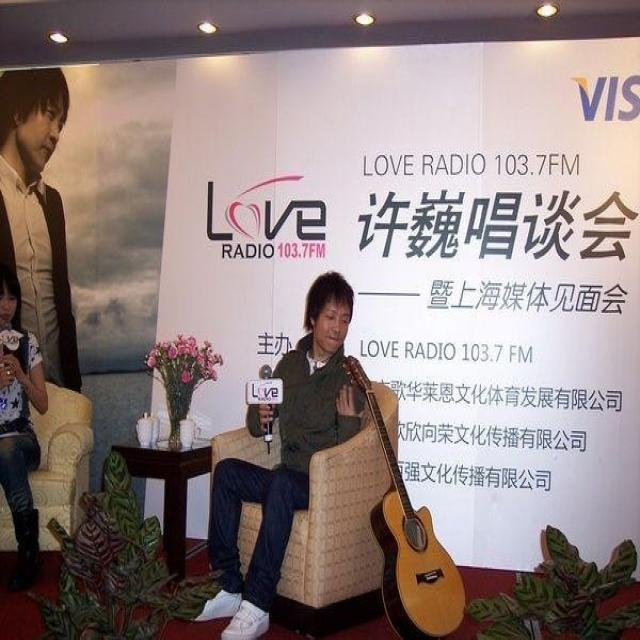guitar: (341, 354, 468, 637)
